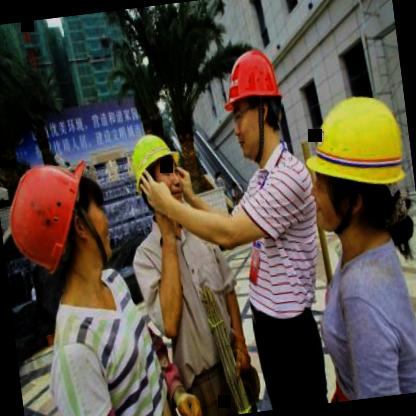helmet: (294, 74, 416, 269), (0, 141, 119, 299), (206, 34, 291, 172), (116, 122, 194, 216)
